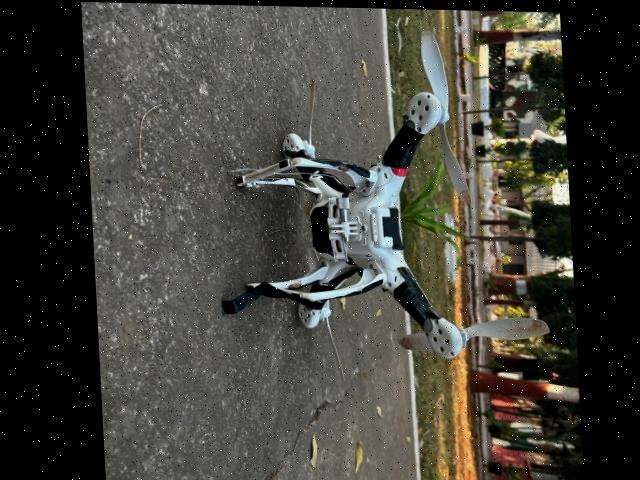drone: (182, 3, 506, 432)
